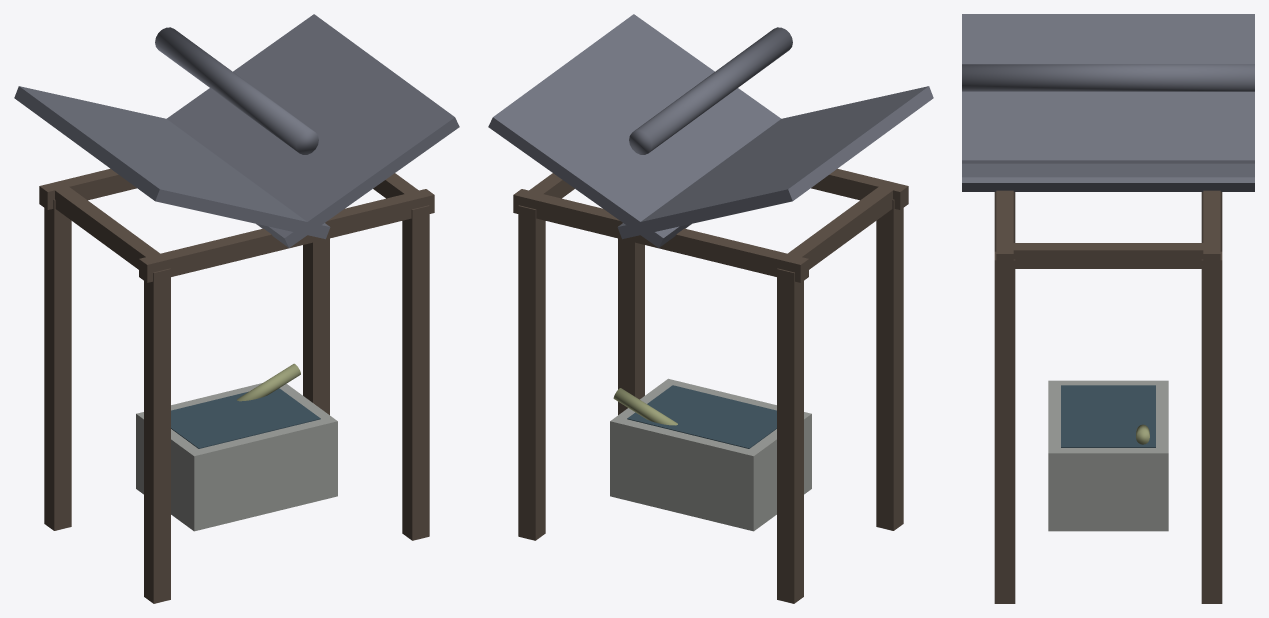
The model's file is prop_chouzuya.glb.
3 renders of one model, left to right at view 1: azimuth 30°, elevation 25°; view 2: azimuth 150°, elevation 25°; view 3: azimuth 270°, elevation 25°, orthographic. The views are drawn at different scales.
Parts seen in each view (by area): view 1: chouzuya; view 2: chouzuya; view 3: chouzuya.
Part boxes in pixels (x1,y1,x2,y2): chouzuya: [14, 14, 459, 603]; chouzuya: [488, 14, 933, 603]; chouzuya: [962, 14, 1254, 603].
Bounding box in the file's own units: 2.12 × 3 × 1.7.
